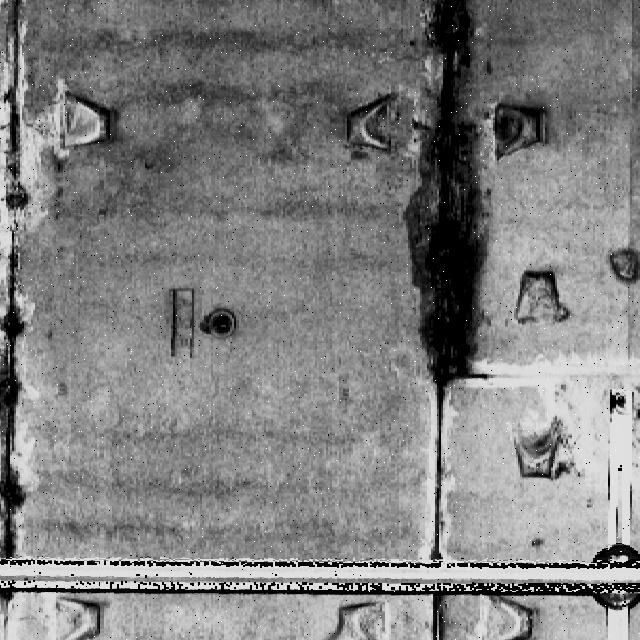leakage: (391, 1, 497, 407)
